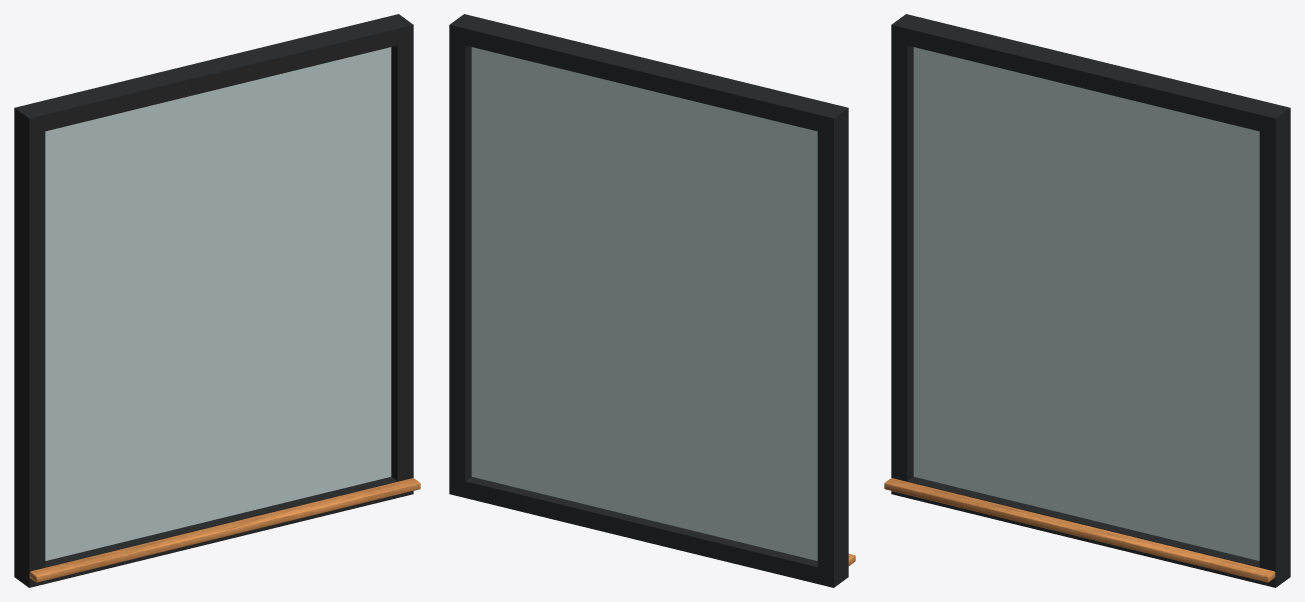
The model's file is architecture.standard-window.glb.
The picture shows the model from 3 angles, left to right: view 1: azimuth 30°, elevation 25°; view 2: azimuth 150°, elevation 25°; view 3: azimuth 330°, elevation 25°; orthographic projection.
Parts seen in each view (by area): view 1: architecture.standard-window.001; view 2: architecture.standard-window.001; view 3: architecture.standard-window.001.
Boxes of the visible parts, x1,y1,x2,y2 form: architecture.standard-window.001: (14,14,420,587); architecture.standard-window.001: (449,14,855,587); architecture.standard-window.001: (884,14,1290,587).
Size of the model in its own units: 1.2 by 1.4 by 0.12.
3 materials, 1 textured.
